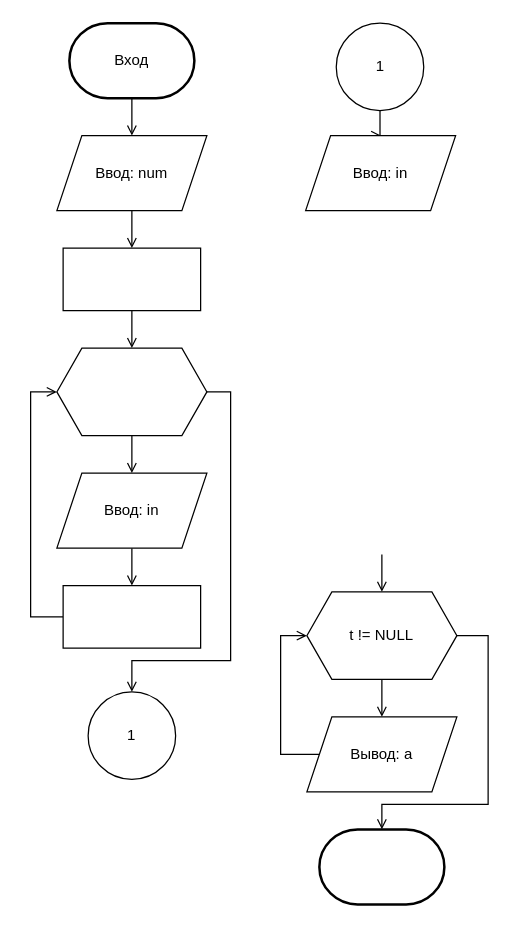
The diagram is 520 pixels wide and 926 high, and some of its shapes have lost their labels. The shapes that lost their labels are listed below. From the top down, each one's centre as x and y in pixels, then its label:
(x=131, y=279): begin = end = NULL i = 1
(x=131, y=391): i < num - 1
(x=131, y=616): i = i + 1
(x=381, y=866): Выход
